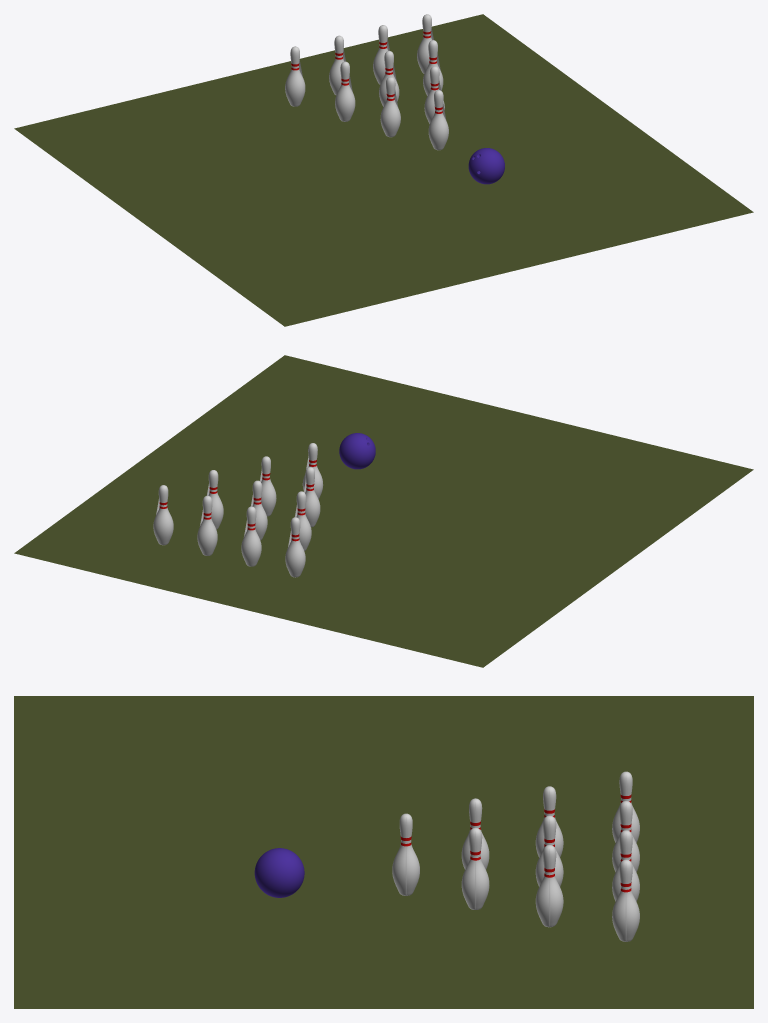
The model's file is Bowling Scene.fbx.
3 views of the same model, one above another, from view 1: azimuth 30°, elevation 25°; view 2: azimuth 150°, elevation 25°; view 3: azimuth 270°, elevation 25° (orthographic). The views are drawn at different scales.
Visible parts, largest first — view 1: Plane, BowlingBall, Pin 7, Pin 4, Pin 2, Pin 1, Pin 10, Pin 9, Pin 8, Pin 6, Pin 5; view 2: Plane, BowlingBall, Pin 8, Pin 7, Pin 10, Pin 9, Pin 3, Pin 2, Pin 4, Pin 5, Pin 6; view 3: Plane, BowlingBall, Pin 10, Pin 1, Pin 6, Pin 3, Pin 7, Pin 9, Pin 8, Pin 4, Pin 5, Pin 2.
Boxes of the visible parts, x1=… form: Plane: x1=14, y1=14, x2=753, y2=326; BowlingBall: x1=468, y1=148, x2=504, y2=184; Pin 7: x1=285, y1=46, x2=305, y2=106; Pin 4: x1=335, y1=61, x2=355, y2=121; Pin 2: x1=380, y1=77, x2=400, y2=137; Pin 1: x1=428, y1=90, x2=448, y2=150; Pin 10: x1=417, y1=14, x2=433, y2=73; Pin 9: x1=373, y1=25, x2=389, y2=84; Pin 8: x1=329, y1=35, x2=345, y2=95; Pin 6: x1=423, y1=40, x2=443, y2=95; Pin 5: x1=379, y1=51, x2=399, y2=106; Plane: x1=14, y1=355, x2=753, y2=667; BowlingBall: x1=339, y1=433, x2=375, y2=469; Pin 8: x1=241, y1=506, x2=261, y2=566; Pin 7: x1=285, y1=517, x2=305, y2=577; Pin 10: x1=153, y1=485, x2=173, y2=545; Pin 9: x1=197, y1=495, x2=217, y2=555; Pin 3: x1=259, y1=456, x2=276, y2=516; Pin 2: x1=303, y1=467, x2=320, y2=527; Pin 4: x1=295, y1=491, x2=311, y2=550; Pin 5: x1=251, y1=480, x2=267, y2=540; Pin 6: x1=207, y1=470, x2=223, y2=529; Plane: x1=14, y1=696, x2=753, y2=1008; BowlingBall: x1=254, y1=848, x2=304, y2=897; Pin 10: x1=612, y1=859, x2=639, y2=941; Pin 1: x1=392, y1=813, x2=419, y2=895; Pin 6: x1=535, y1=845, x2=563, y2=927; Pin 3: x1=461, y1=827, x2=489, y2=909; Pin 7: x1=612, y1=771, x2=639, y2=842; Pin 9: x1=612, y1=830, x2=639, y2=901; Pin 8: x1=612, y1=801, x2=639, y2=871; Pin 4: x1=535, y1=786, x2=563, y2=857; Pin 5: x1=535, y1=815, x2=563, y2=886; Pin 2: x1=461, y1=798, x2=489, y2=869.
Size of the model in its own units: 3200 by 383 by 3200.
